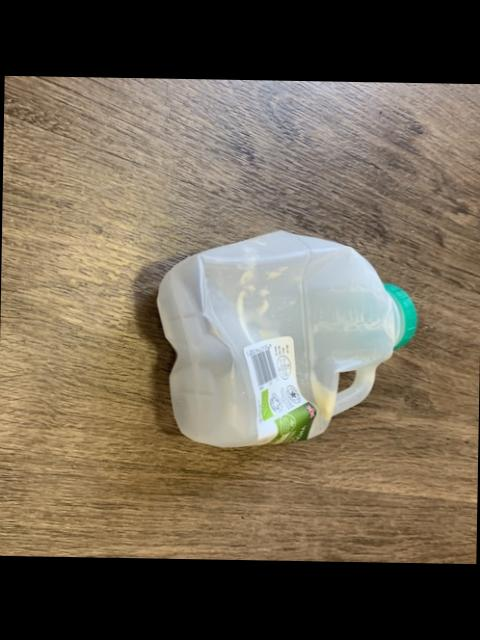plastic: (158, 233, 416, 448)
